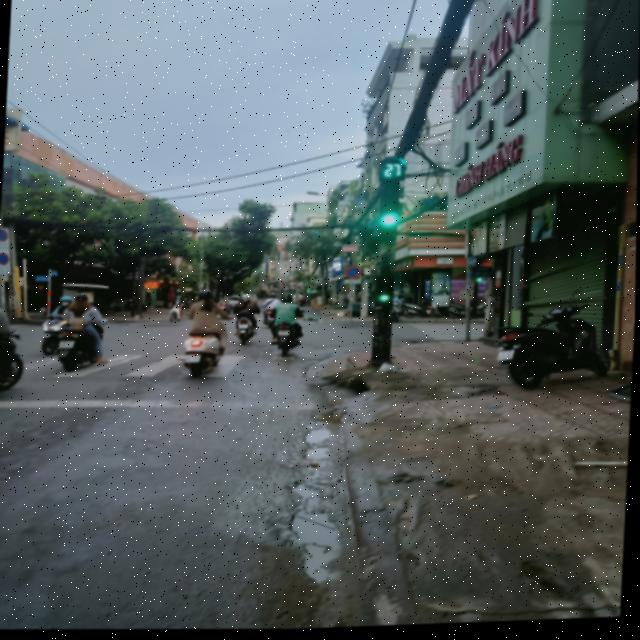Green: (371, 183, 403, 233), (371, 274, 402, 314)
